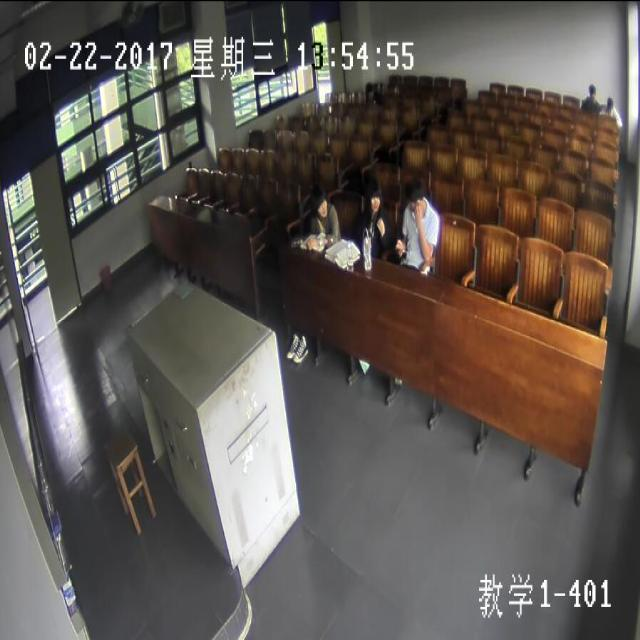person: (404, 179, 422, 218), (311, 190, 325, 216), (368, 181, 380, 211), (587, 81, 595, 96), (606, 94, 613, 110)
